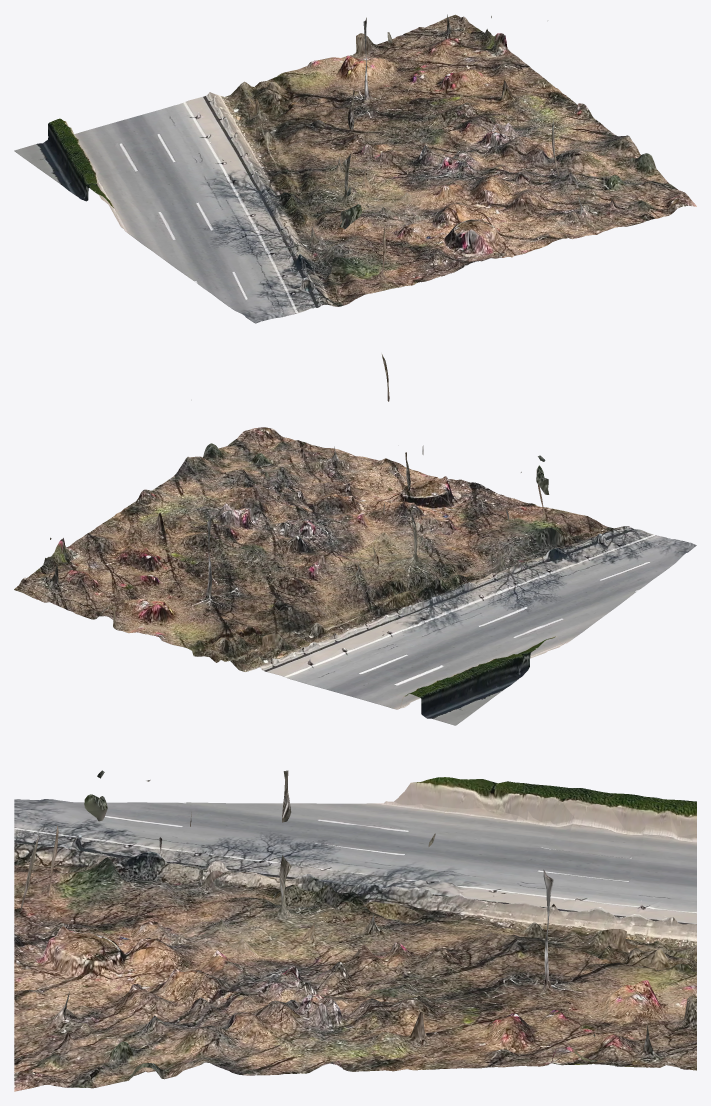
The model's file is BlockYY_L20_55.glb.
3 renders of one model, top to bottom at view 1: azimuth 30°, elevation 25°; view 2: azimuth 150°, elevation 25°; view 3: azimuth 270°, elevation 25°, orthographic. The views are drawn at different scales.
Parts seen in each view (by area): view 1: rtc; view 2: rtc; view 3: rtc.
Part boxes in pixels (box(x1,y1,x2,y2)): rtc: box(14, 14, 696, 323); rtc: box(14, 353, 696, 725); rtc: box(14, 770, 696, 1091).
Size of the model in its own units: 46.48 by 13.33 by 43.97.
4 materials, 4 textured.
